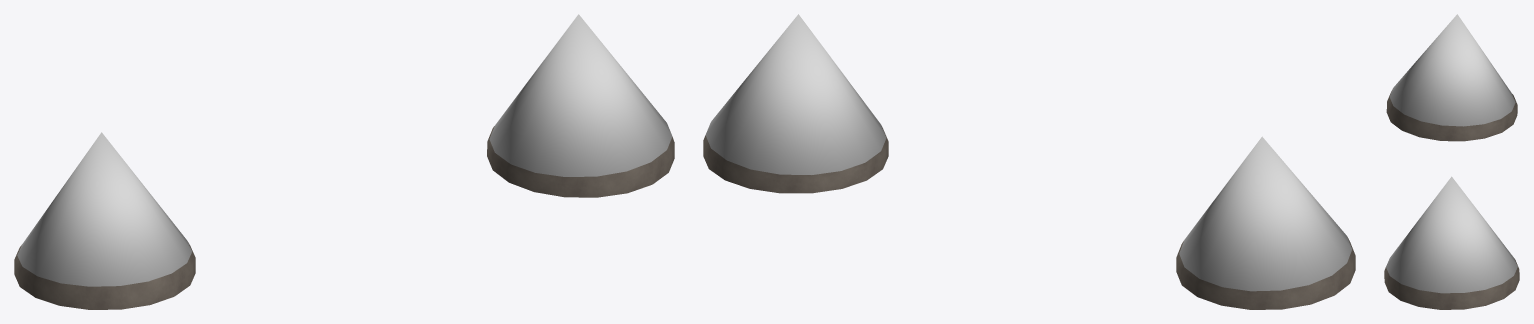
Rendered from baobab_stump.gltf.
3 views of the same model, side by side, from view 1: azimuth 30°, elevation 25°; view 2: azimuth 150°, elevation 25°; view 3: azimuth 270°, elevation 25° (orthographic). The views are drawn at different scales.
Visible parts, largest first — view 1: Baobab2Stump_COL, Baobab1Stump_COL, Baobab1Stump_LOD0, Baobab2Stump_LOD0; view 2: Baobab2Stump_COL, Baobab1Stump_COL, Baobab1Stump_LOD0, Baobab2Stump_LOD0; view 3: Baobab2Stump_COL, Baobab1Stump_COL, Baobab2Stump_LOD0, Baobab1Stump_LOD0.
Boxes of the visible parts, bbox=[...] form: Baobab2Stump_COL: bbox=[489, 14, 672, 176]; Baobab1Stump_COL: bbox=[17, 132, 192, 286]; Baobab1Stump_LOD0: bbox=[14, 241, 195, 309]; Baobab2Stump_LOD0: bbox=[487, 126, 674, 197]; Baobab2Stump_COL: bbox=[705, 14, 886, 174]; Baobab1Stump_COL: bbox=[1179, 136, 1351, 291]; Baobab1Stump_LOD0: bbox=[1176, 237, 1355, 309]; Baobab2Stump_LOD0: bbox=[703, 127, 888, 193]; Baobab2Stump_COL: bbox=[1386, 176, 1517, 293]; Baobab1Stump_COL: bbox=[1389, 14, 1515, 126]; Baobab2Stump_LOD0: bbox=[1384, 258, 1519, 309]; Baobab1Stump_LOD0: bbox=[1386, 91, 1517, 141].
Bounding box in the file's own units: 19.96 × 4.41 × 5.13.
Materials: 1 (1 with a texture image).
